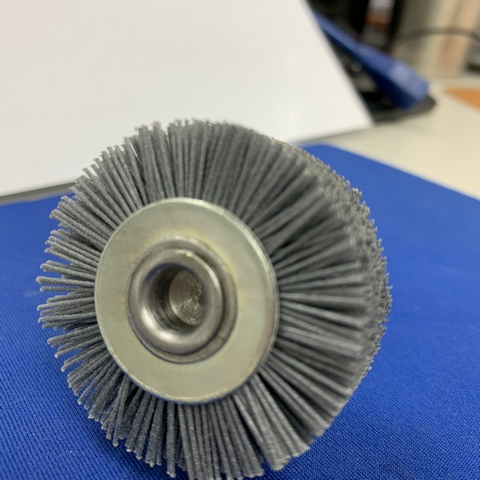Wheel Brush: (28, 134, 434, 464), (33, 119, 384, 480), (43, 118, 357, 473)
